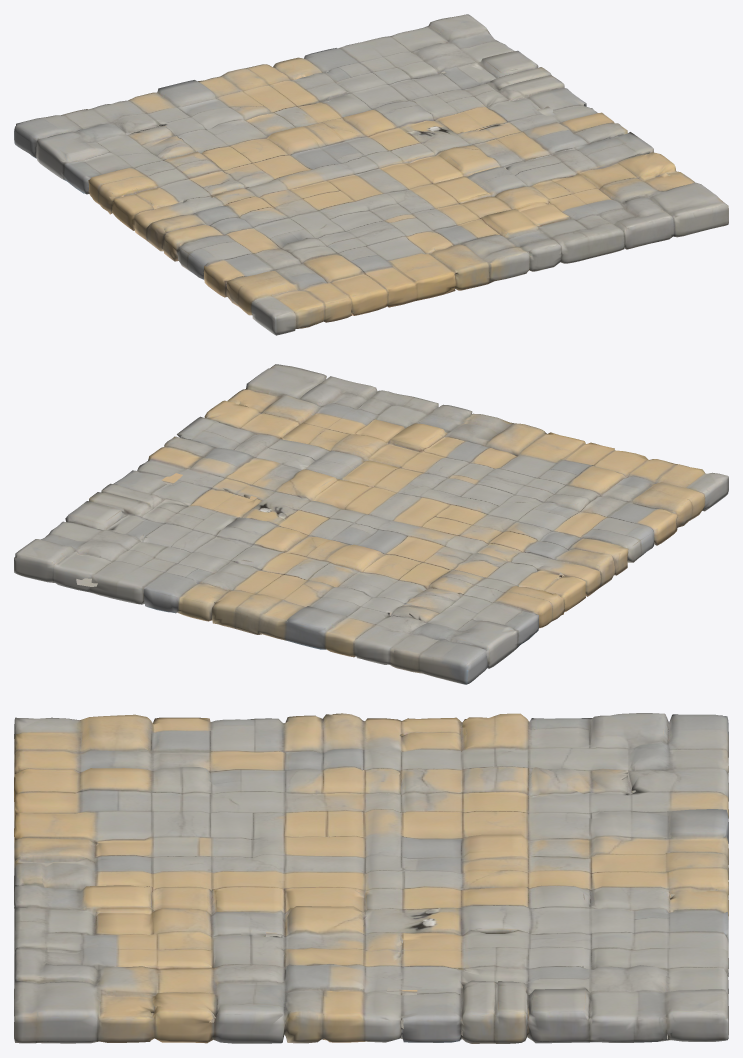
Rendered from Cobblestone_Pathway_0701181917_texture.glb.
3 renders of one model, top to bottom at view 1: azimuth 30°, elevation 25°; view 2: azimuth 150°, elevation 25°; view 3: azimuth 270°, elevation 25°, orthographic. The views are drawn at different scales.
Bounding box in the file's own units: 2 × 0.1032 × 2.
Materials: 1 (1 with a texture image).
